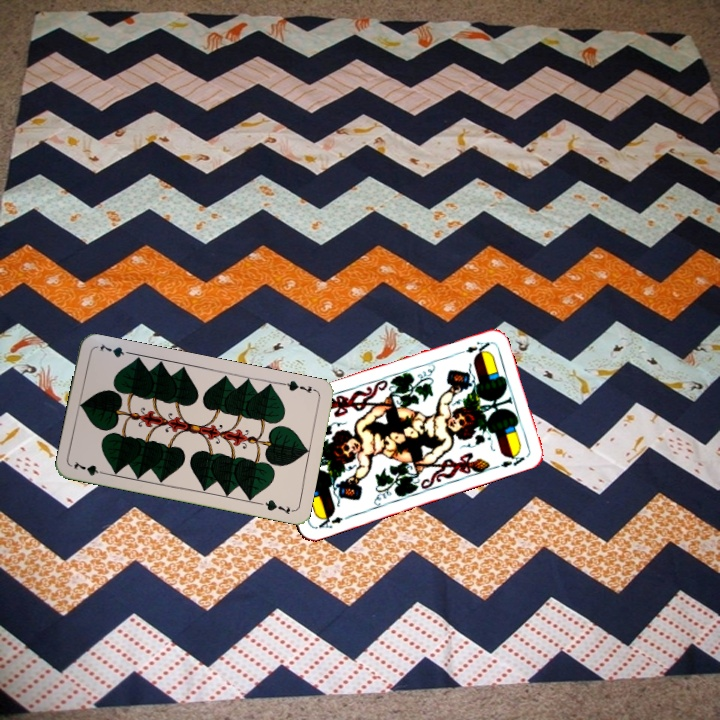EA: (453, 338, 492, 357), (312, 510, 345, 531)
G7: (70, 457, 110, 478), (278, 376, 319, 396)
